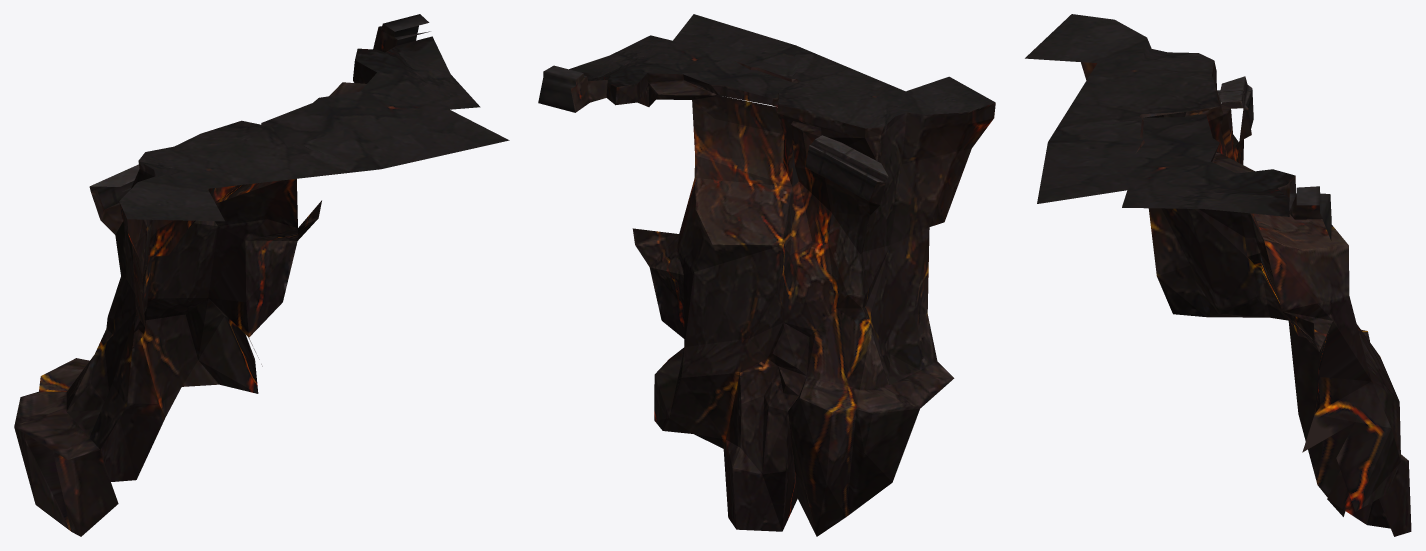
The model's file is S2_Build_XSC106_L3.FBX.
3 views of the same model, side by side, from view 1: azimuth 30°, elevation 25°; view 2: azimuth 150°, elevation 25°; view 3: azimuth 270°, elevation 25° (orthographic). The views are drawn at different scales.
Parts seen in each view (by area): view 1: S2_Build_XSC106_L3; view 2: S2_Build_XSC106_L3; view 3: S2_Build_XSC106_L3.
Boxes of the visible parts, x1=… form: S2_Build_XSC106_L3: x1=14, y1=14, x2=509, y2=536; S2_Build_XSC106_L3: x1=538, y1=14, x2=995, y2=536; S2_Build_XSC106_L3: x1=1025, y1=14, x2=1411, y2=536.
Bounding box in the file's own units: 2504 × 2557 × 1855.
